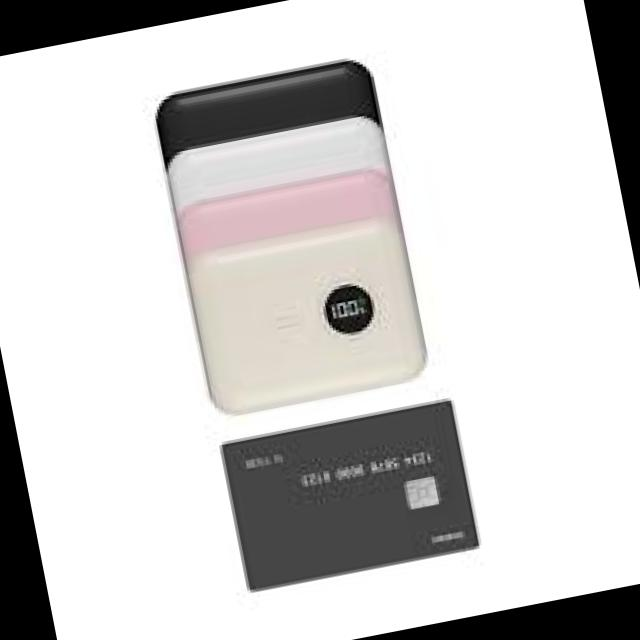portable-charger: (180, 215, 430, 423), (145, 59, 380, 158), (169, 161, 399, 262), (162, 110, 384, 207)
